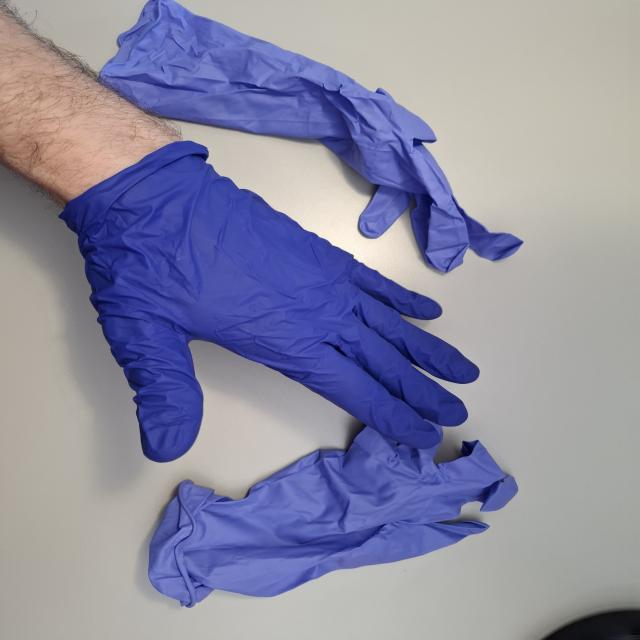glove_on: (60, 135, 482, 463)
